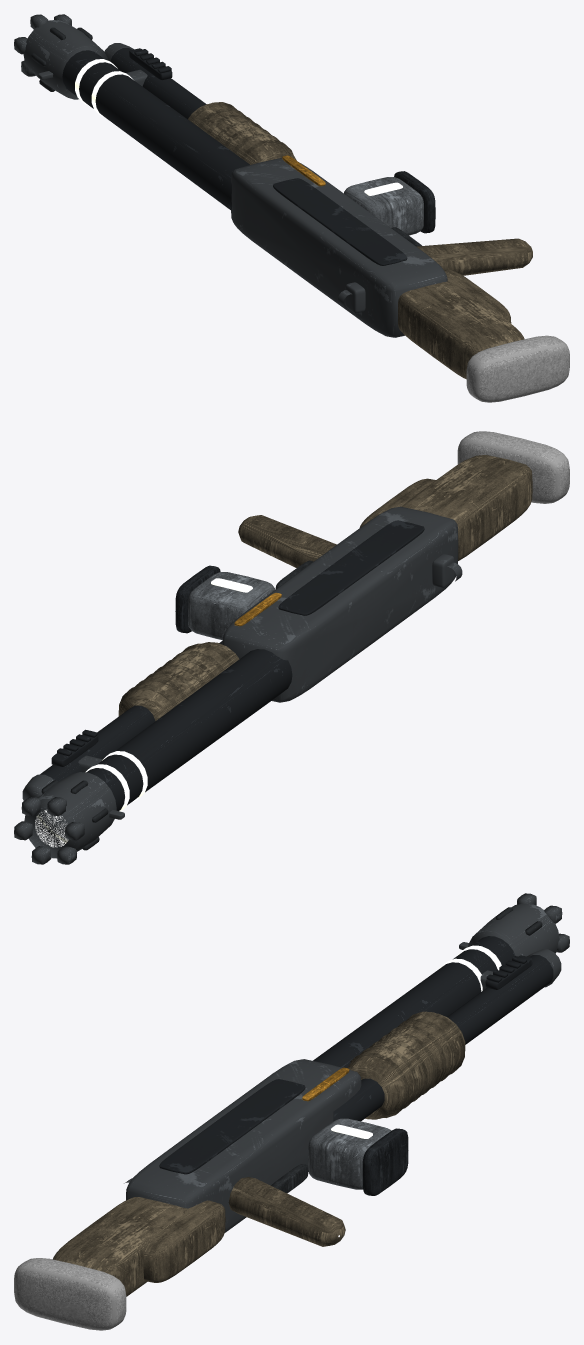
File: br9_world.glb
The picture shows the model from 3 angles, top to bottom: view 1: azimuth 30°, elevation 25°; view 2: azimuth 150°, elevation 25°; view 3: azimuth 330°, elevation 25°; orthographic projection. The views are drawn at different scales.
Visible parts, largest first — view 1: br9_world; view 2: br9_world; view 3: br9_world.
Part boxes in pixels (x1,y1,x2,y2): br9_world: [14, 14, 569, 402]; br9_world: [14, 431, 569, 864]; br9_world: [14, 893, 569, 1330].
Size of the model in its own units: 0.2032 by 0.065 by 0.834.
Materials: 7 (5 with a texture image).
